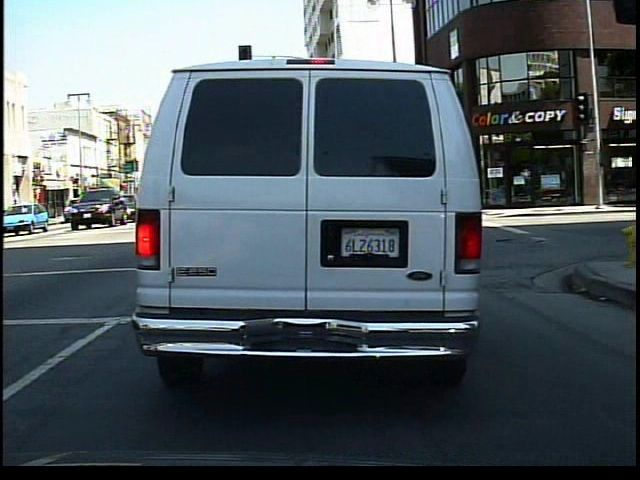person: (6, 196, 24, 229)
